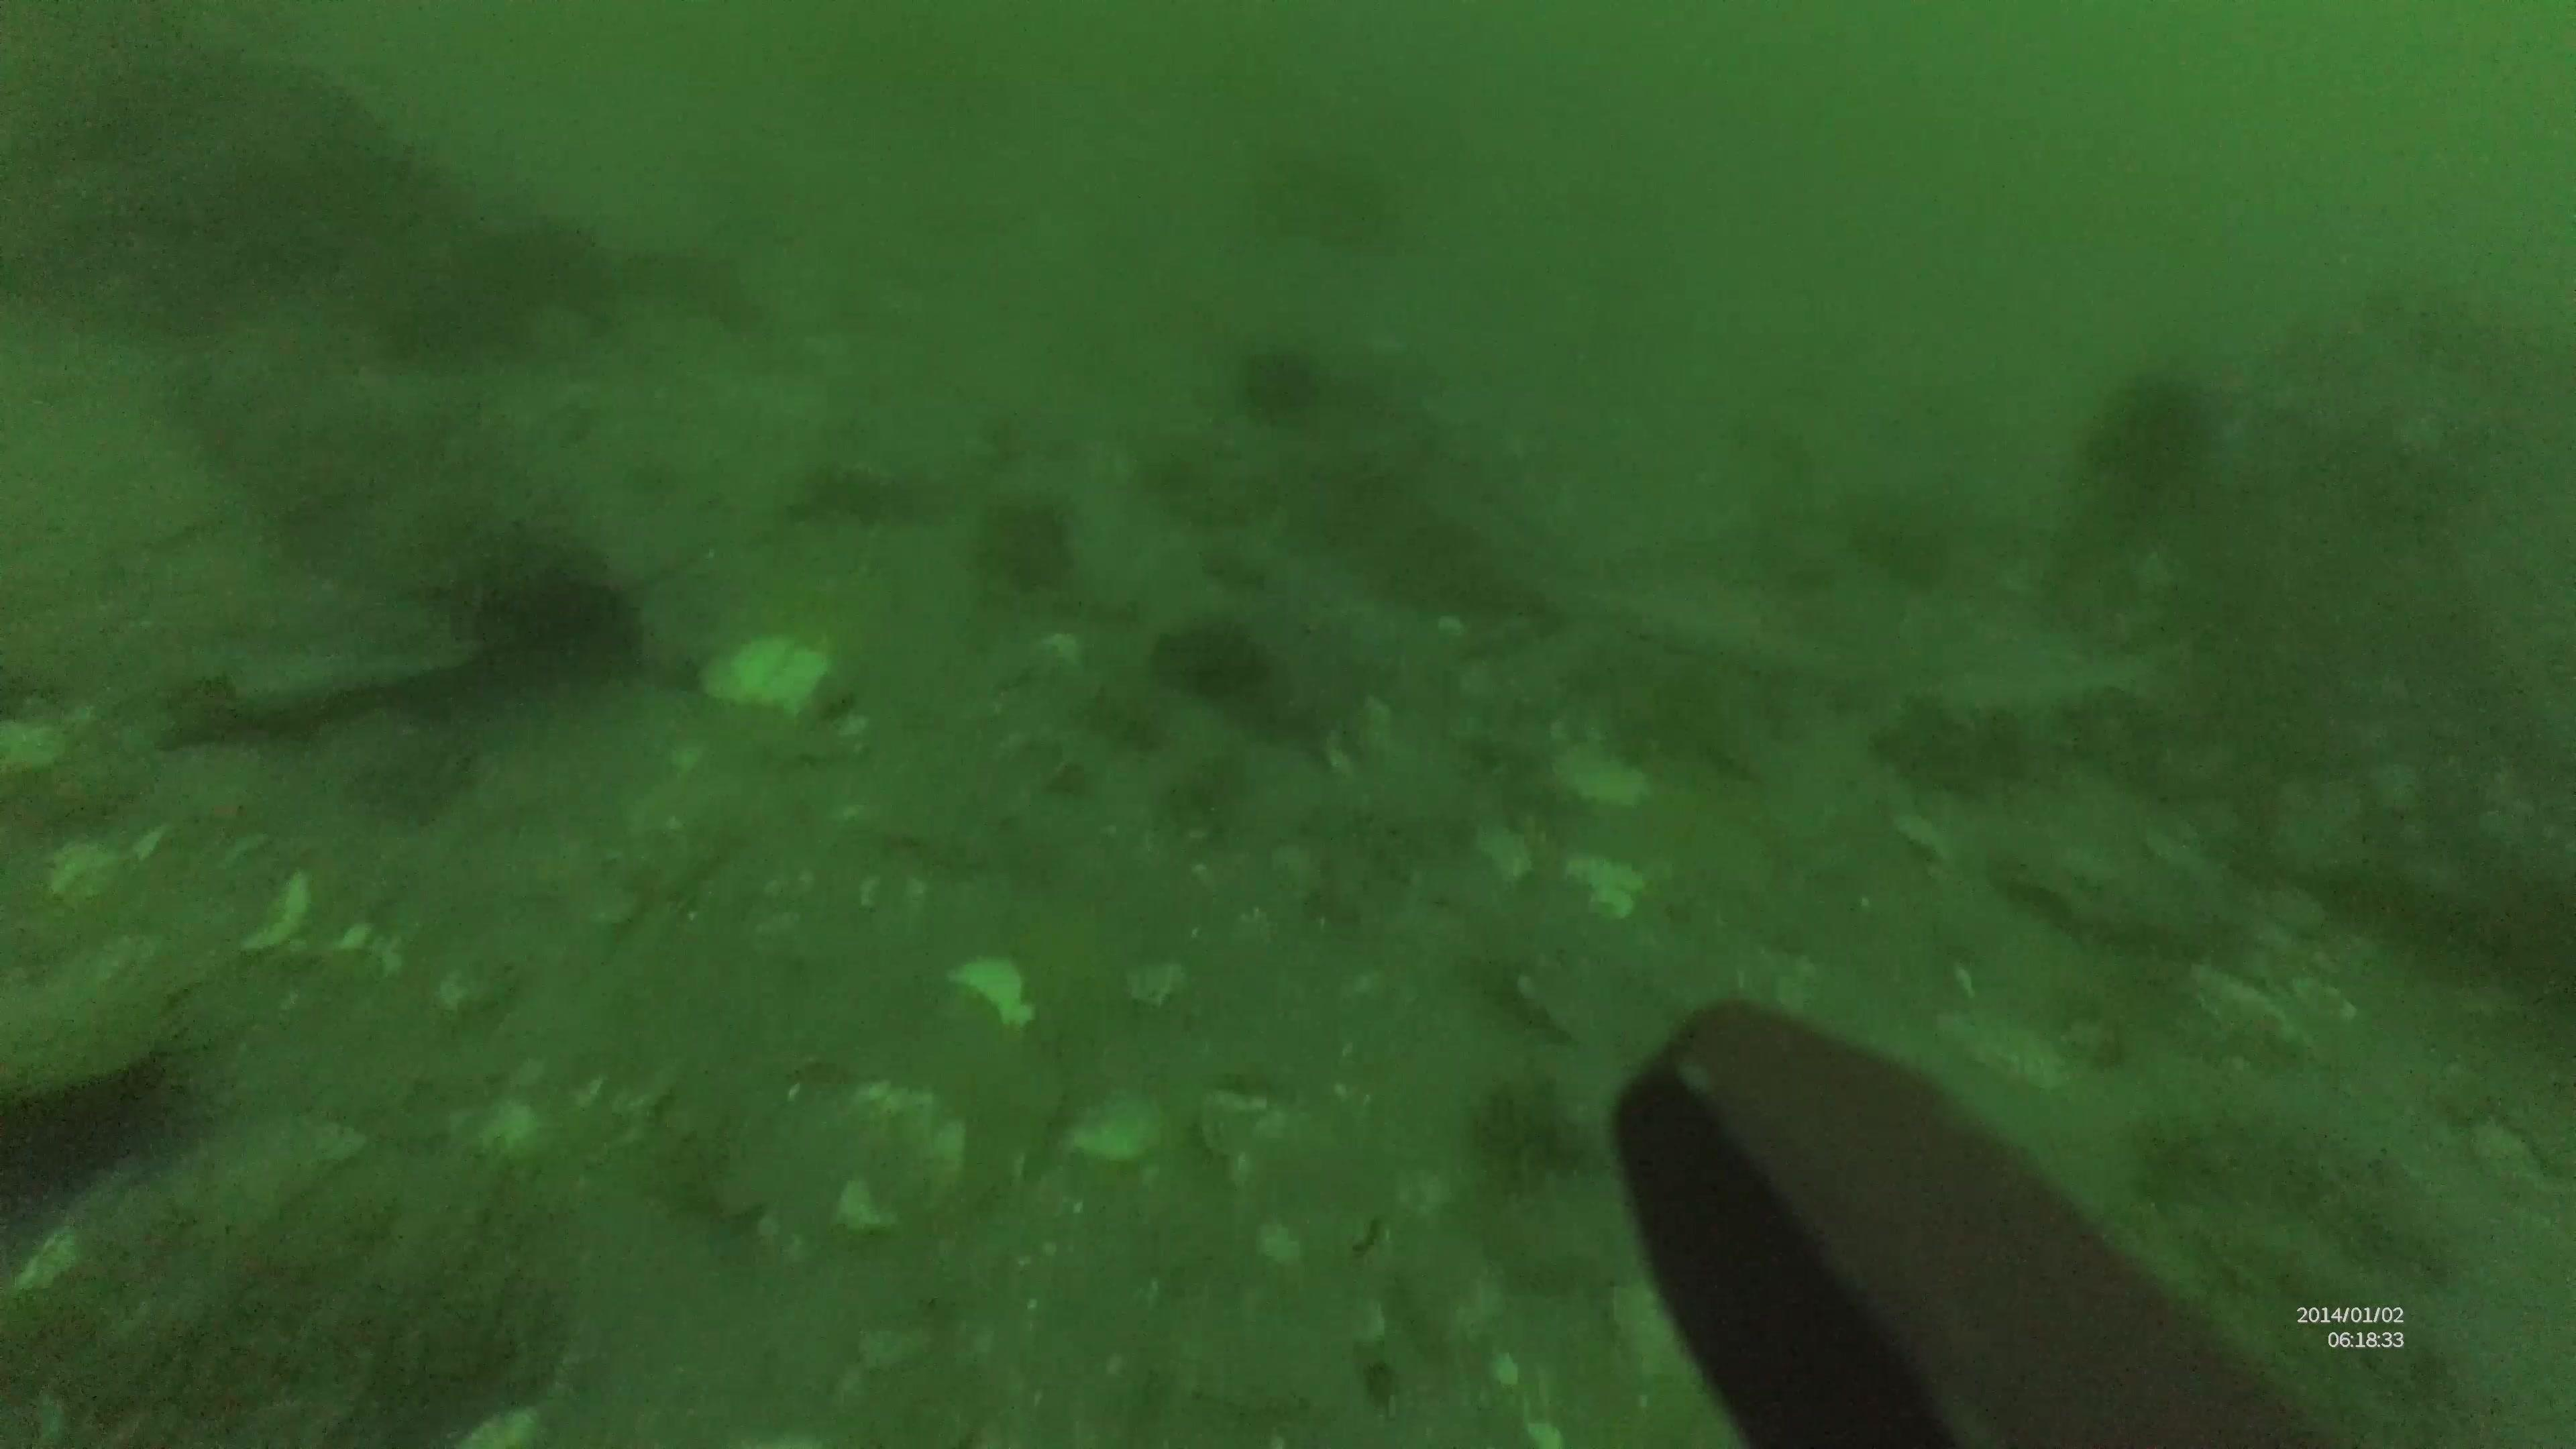echinus: (494, 566, 630, 651), (1155, 614, 1260, 697)
holothurian: (2123, 1095, 2480, 1283), (1902, 640, 2307, 761), (1992, 832, 2247, 975)
